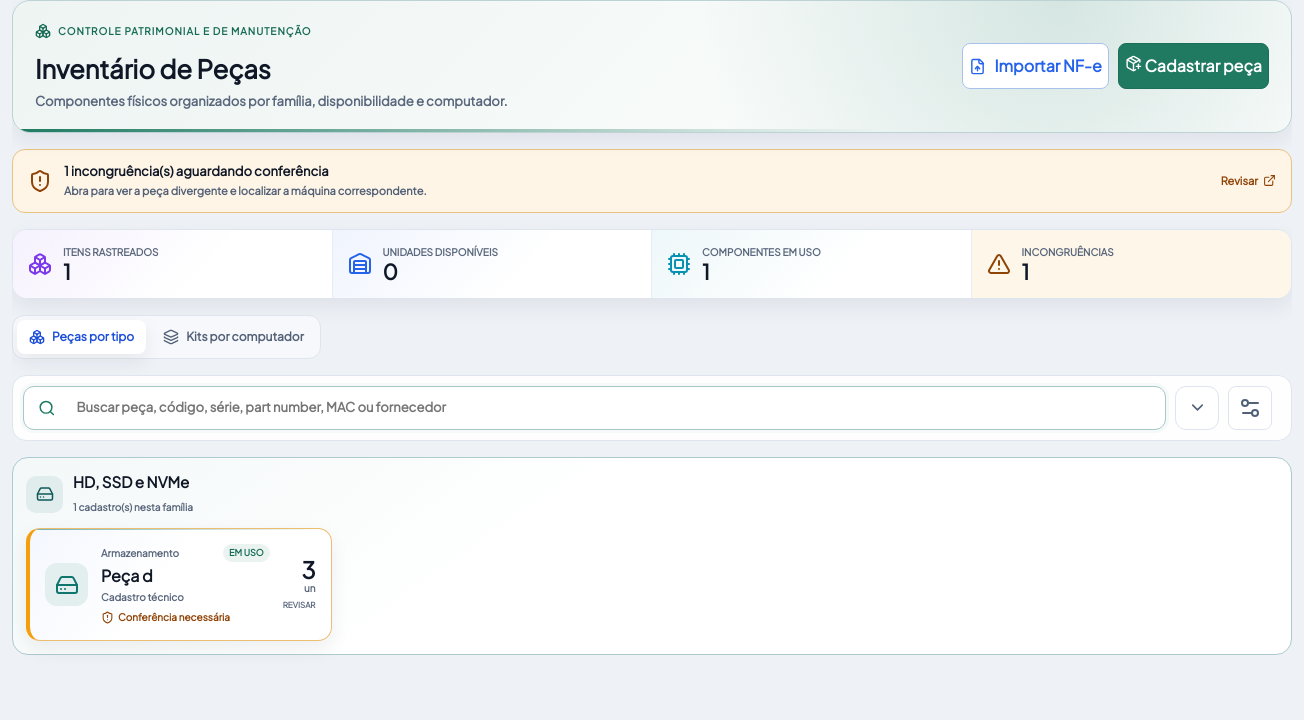
Test: PartsInventoryPage (lista e filtros) › o banner filtra incongruências e o botão limpa o filtro
Click the button "incongruência(s) aguardando conferência" at (199, 171), box [12,149,1292,213]
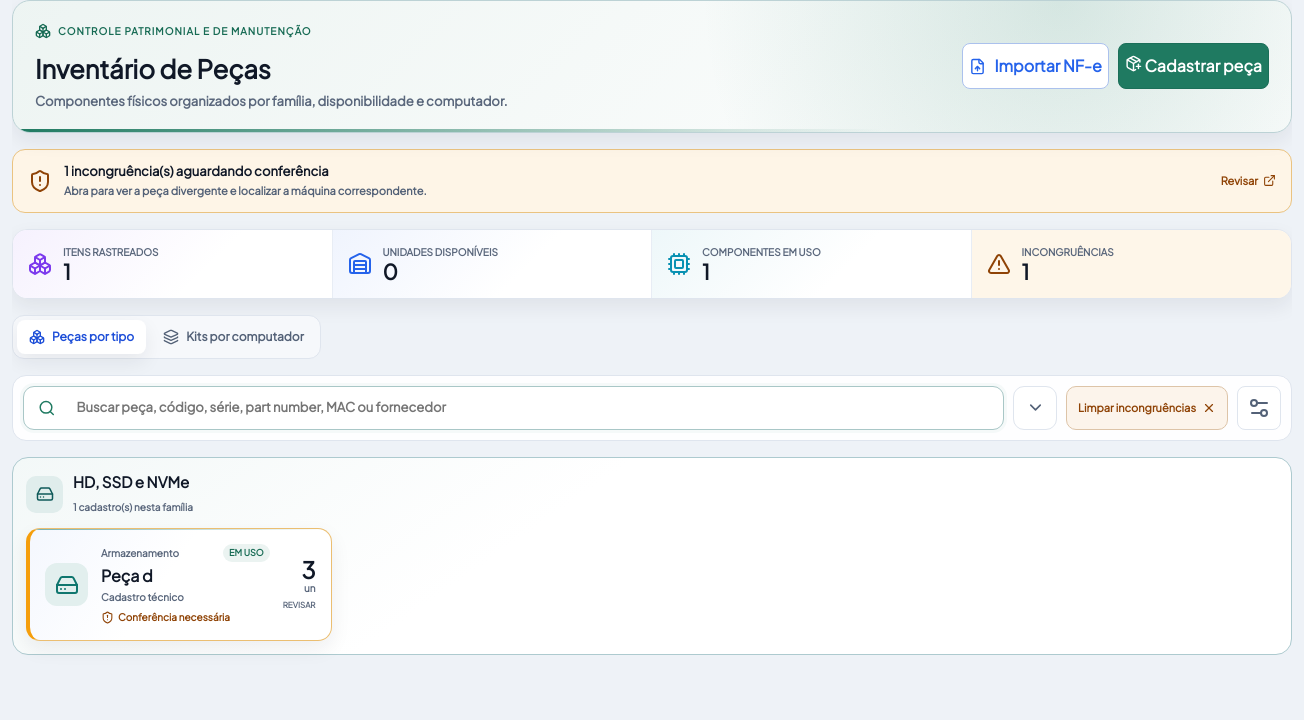
Click the button "Limpar incongruências" at (1147, 408), box [1066,386,1228,430]
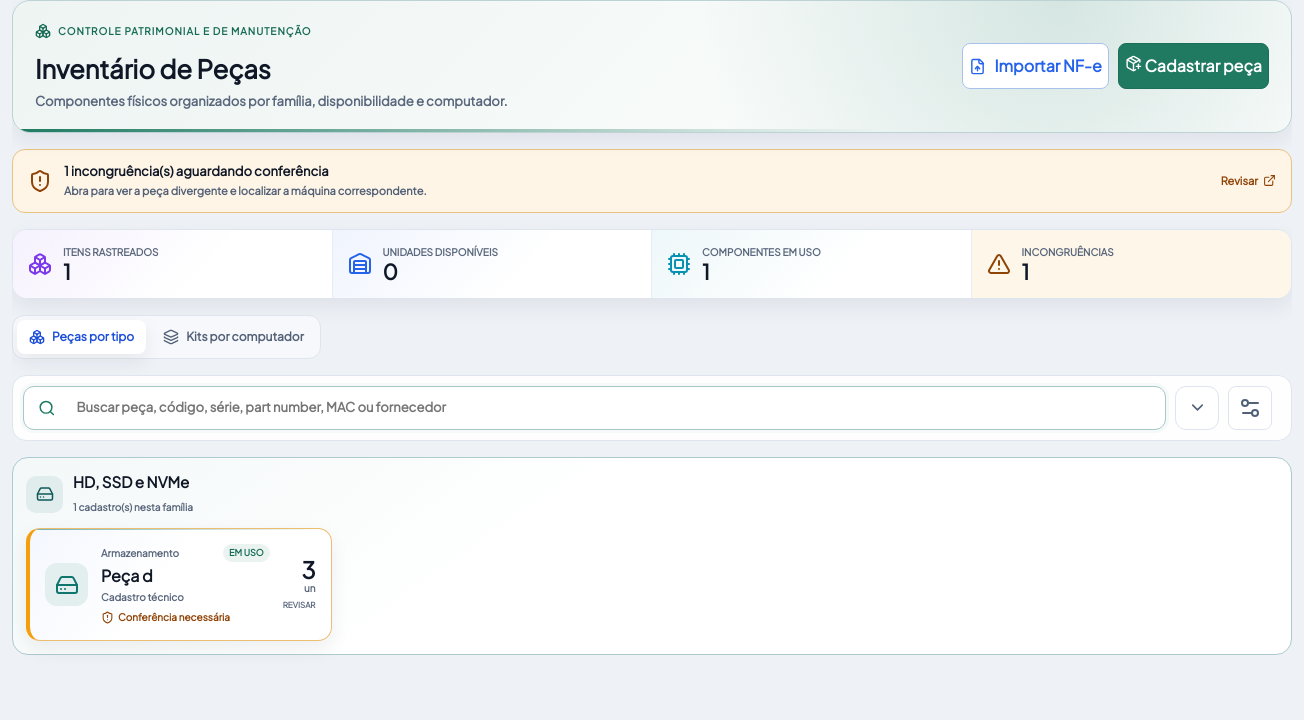
Result: the button "Limpar incongruências" is gone
